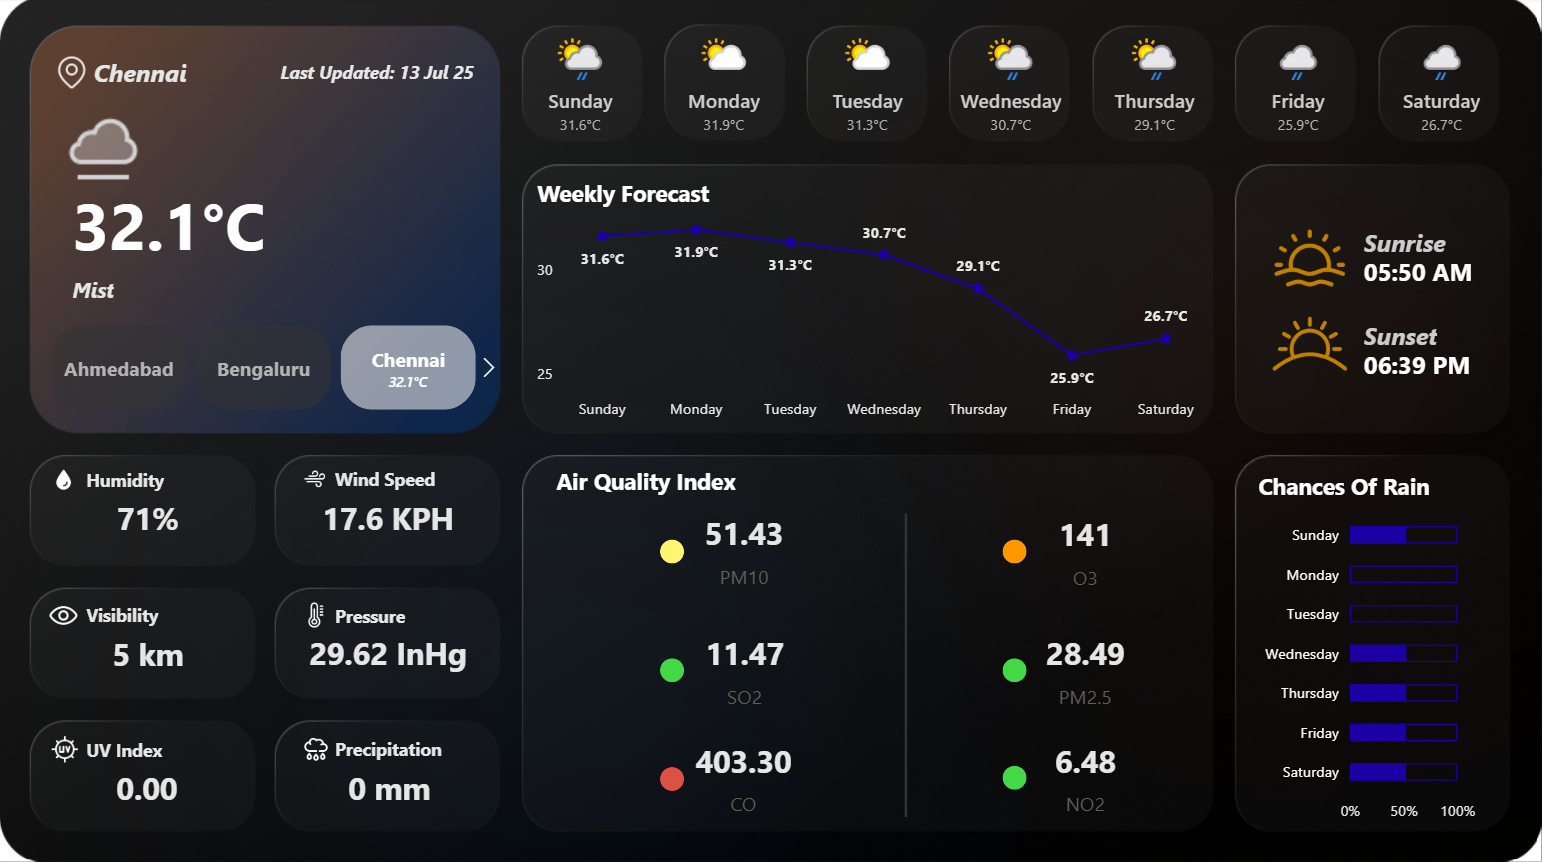

What the dashboard file says about the page in this screenshot:
{"tool":"powerbi","page":{"name":"Page 1","canvas":[1280,720],"ordinal":0},"visuals":[{"type":"advancedSlicerVisual","fields":{"Values":["Locations.location.name"]},"box":[17.4,267.4,403.5,80.2],"z":0},{"type":"shape","box":[60.5,144.2,217.4,87.2],"z":1000},{"type":"shape","box":[60.5,231.4,322.1,30.2],"z":2000},{"type":"shape","box":[78.2,43.2,173.6,38.2],"z":3000},{"type":"shape","box":[219.1,43.2,174.1,38.2],"z":4000},{"type":"image","box":[41.8,44.1,36.4,36.4],"z":5000},{"type":"cardVisual","fields":{"Data":["Min(Current Data.current.condition.icon)"]},"box":[24.4,62.8,105.8,114],"z":6000},{"type":"image","box":[38.3,386.2,29.6,27.5],"z":7000},{"type":"shape","box":[71.7,381,73.7,38],"z":8000},{"type":"image","box":[244.6,385.8,33.3,28.3],"z":9000},{"type":"shape","box":[277.9,380.7,88.9,38.2],"z":10000},{"type":"image","box":[34.6,494.2,37.1,37.1],"z":11000},{"type":"image","box":[246.2,496.7,30.4,32.5],"z":12000},{"type":"image","box":[37.1,607.1,32.9,32.9],"z":13000},{"type":"image","box":[245.3,607.4,32.6,33.2],"z":14000},{"type":"shape","box":[71.7,493.7,73.7,38],"z":15000},{"type":"shape","box":[71.7,604.7,73.7,38],"z":16000},{"type":"shape","box":[277.9,493.9,88.2,38.2],"z":17000},{"type":"shape","box":[277.9,604.6,107.1,37.9],"z":18000},{"type":"cardVisual","fields":{"Data":["Measures Table.Current_humidity"]},"box":[70,371.5,104.6,111.5],"z":19000},{"type":"cardVisual","fields":{"Data":["Measures Table.Current_wind_speed"]},"box":[230.2,372.1,183.7,111.6],"z":20000},{"type":"cardVisual","fields":{"Data":["Measures Table.Current_visibility"]},"box":[49.2,484.6,146.2,111.5],"z":21000},{"type":"cardVisual","fields":{"Data":["Measures Table.Current_Pressure"]},"box":[216.9,483.8,210,111.5],"z":22000},{"type":"cardVisual","fields":{"Data":["Sum(Current Data.current.uv)"]},"box":[49.1,595.9,146.4,111.8],"z":23000},{"type":"cardVisual","fields":{"Data":["Measures Table.current_precipitation"]},"box":[235,595.8,175,111.7],"z":24000},{"type":"advancedSlicerVisual","fields":{"Values":["Forecast Data By Day.Day_name"]},"box":[420.7,21.3,838,103.3],"z":25000},{"type":"lineChart","title":"Weekly Forecast","fields":{"Y":["Avg(Forecast Data By Day.forecast.forecastday.day.avgtemp_c)"],"Category":["Forecast Data By Day.Day_name"]},"box":[440,150,562.5,210],"z":26000},{"type":"shape","box":[1131,184.8,94.6,37.7],"z":27000},{"type":"shape","box":[1131,208.7,94.6,37.7],"z":28000},{"type":"shape","box":[1131,261,94.6,37.7],"z":29000},{"type":"shape","box":[1131,284.8,94.6,37.7],"z":30000},{"type":"image","box":[1051.5,182.7,68.5,68.5],"z":31000},{"type":"image","box":[1038.5,241.7,95,92],"z":32000},{"type":"hundredPercentStackedBarChart","title":"Chances Of Rain","fields":{"Y":["Sum(Forecast Data By Day.forecast.forecastday.day.daily_chance_of_rain)","Measures Table.Left_value_Rain"],"Category":["Forecast Data By Day.Day_name"]},"box":[1038,393,190,300],"z":33000},{"type":"shape","box":[461,382.3,161.2,37.3],"z":34000},{"type":"cardVisual","fields":{"Data":["Sum(Current Data.current.air_quality.o3)"]},"box":[808.3,403.3,183.9,112.2],"z":35000},{"type":"cardVisual","fields":{"Data":["Sum(Current Data.current.air_quality.pm2_5)"]},"box":[808.3,502.8,183.9,111.1],"z":36000},{"type":"cardVisual","fields":{"Data":["Sum(Current Data.current.air_quality.no2)"]},"box":[807.8,591.7,183.9,111.1],"z":37000},{"type":"cardVisual","fields":{"Data":["Sum(Current Data.current.air_quality.pm10)"]},"box":[525,403.6,183.6,111.8],"z":38000},{"type":"cardVisual","fields":{"Data":["Sum(Current Data.current.air_quality.so2)"]},"box":[524.9,502.4,184.4,111.7],"z":39000},{"type":"cardVisual","fields":{"Data":["Sum(Current Data.current.air_quality.co)"]},"box":[524.3,591.9,184.4,111.7],"z":40000},{"type":"shape","box":[547.1,449.7,20,20],"z":41000},{"type":"shape","box":[831.1,449.4,20,20],"z":42000},{"type":"shape","box":[547.1,548.6,20,20],"z":43000},{"type":"shape","box":[831.1,548.3,20,20],"z":44000},{"type":"shape","box":[547.1,638,20,20],"z":45000},{"type":"shape","box":[831.1,637.8,20,20],"z":46000},{"type":"shape","box":[670,427.8,161.1,252.2],"z":47000}]}

Visuals, with their boxes in screenshot pixels (x1, y1, x2, y2), scaled from the page's 1280x720 canvas onto the 1542x862 screenshot:
advancedSlicerVisual - Locations.location.name: <box>21,320,507,416</box>
shape: <box>73,173,335,277</box>
shape: <box>73,277,461,313</box>
shape: <box>94,52,303,97</box>
shape: <box>264,52,474,97</box>
image: <box>50,53,94,96</box>
cardVisual - Min(Current Data.current.condition.icon): <box>29,75,157,212</box>
image: <box>46,462,82,495</box>
shape: <box>86,456,175,502</box>
image: <box>295,462,335,496</box>
shape: <box>335,456,442,502</box>
image: <box>42,592,86,636</box>
image: <box>297,595,333,634</box>
image: <box>45,727,84,766</box>
image: <box>296,727,335,767</box>
shape: <box>86,591,175,637</box>
shape: <box>86,724,175,769</box>
shape: <box>335,591,441,637</box>
shape: <box>335,724,464,769</box>
cardVisual - Measures Table.Current_humidity: <box>84,445,210,578</box>
cardVisual - Measures Table.Current_wind_speed: <box>277,445,499,579</box>
cardVisual - Measures Table.Current_visibility: <box>59,580,235,714</box>
cardVisual - Measures Table.Current_Pressure: <box>261,579,514,713</box>
cardVisual - Sum(Current Data.current.uv): <box>59,713,236,847</box>
cardVisual - Measures Table.current_precipitation: <box>283,713,494,847</box>
advancedSlicerVisual - Forecast Data By Day.Day_name: <box>507,26,1516,149</box>
"Weekly Forecast" lineChart: <box>530,180,1208,431</box>
shape: <box>1363,221,1476,266</box>
shape: <box>1363,250,1476,295</box>
shape: <box>1363,312,1476,358</box>
shape: <box>1363,341,1476,386</box>
image: <box>1267,219,1349,301</box>
image: <box>1251,289,1366,400</box>
"Chances Of Rain" hundredPercentStackedBarChart: <box>1250,471,1479,830</box>
shape: <box>555,458,750,502</box>
cardVisual - Sum(Current Data.current.air_quality.o3): <box>974,483,1195,617</box>
cardVisual - Sum(Current Data.current.air_quality.pm2_5): <box>974,602,1195,735</box>
cardVisual - Sum(Current Data.current.air_quality.no2): <box>973,708,1195,841</box>
cardVisual - Sum(Current Data.current.air_quality.pm10): <box>632,483,854,617</box>
cardVisual - Sum(Current Data.current.air_quality.so2): <box>632,601,854,735</box>
cardVisual - Sum(Current Data.current.air_quality.co): <box>632,709,854,842</box>
shape: <box>659,538,683,562</box>
shape: <box>1001,538,1025,562</box>
shape: <box>659,657,683,681</box>
shape: <box>1001,656,1025,680</box>
shape: <box>659,764,683,788</box>
shape: <box>1001,764,1025,788</box>
shape: <box>807,512,1001,814</box>
